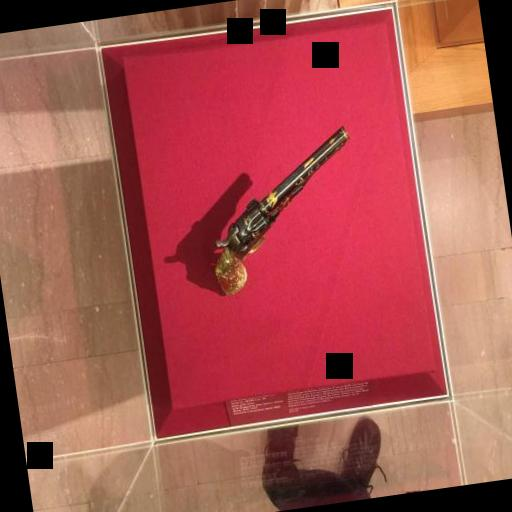Handgun: (194, 119, 370, 300)
